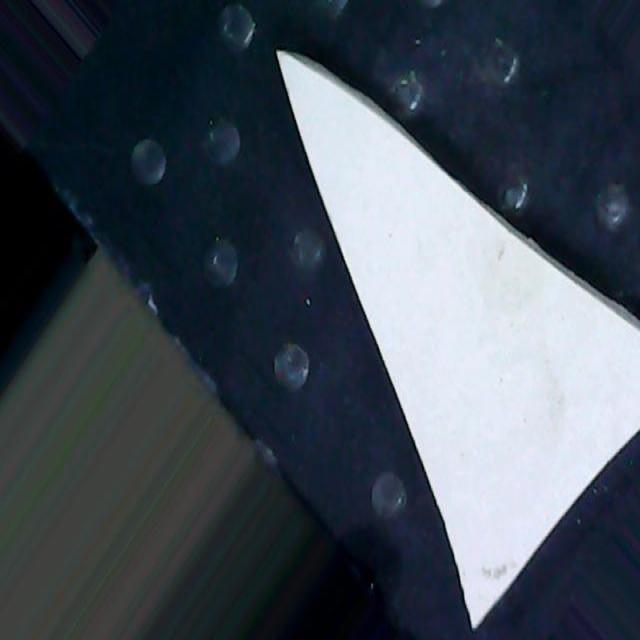-Other waste - ceramic-: (277, 43, 640, 624)
